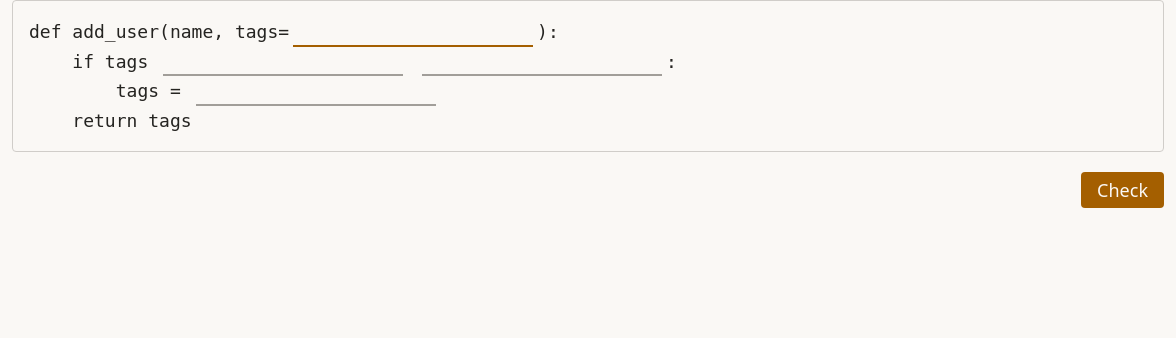
Scenario: FillInCard — post-submit › all-correct submission marks every blank correct, no remediation text
Type "None" into the field next to "def add_user(name, tags=" at [413, 33], box left=293, top=19, right=533, bottom=47
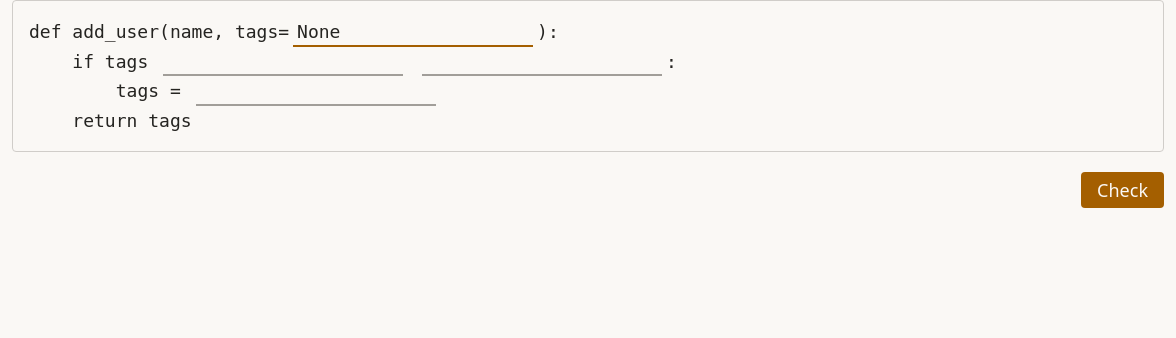
Type "is" into the field below "): if tags" at [283, 63], box left=163, top=49, right=403, bottom=76
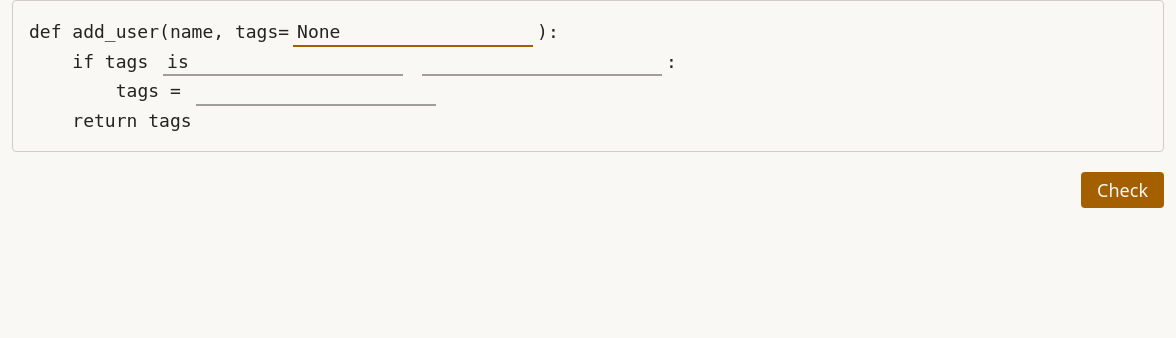
Type "None" into the 3rd field at [542, 63], box left=422, top=49, right=662, bottom=76
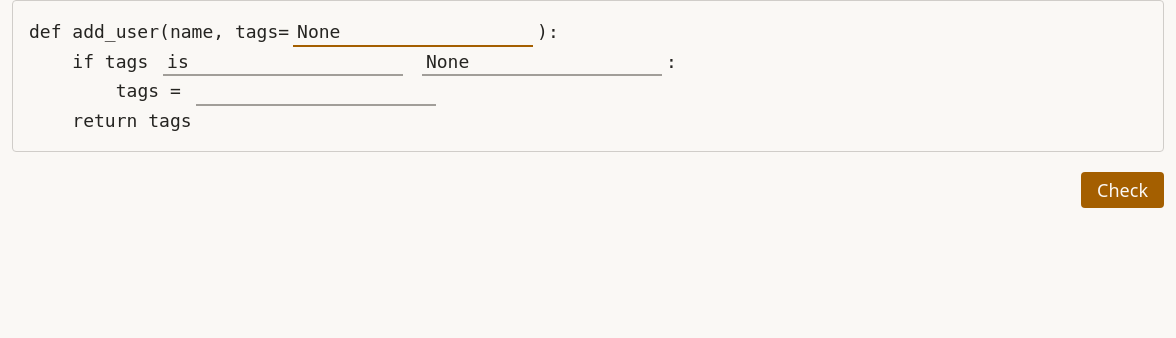
Type "[]" into the field below ": tags =" at [316, 92], box left=196, top=78, right=436, bottom=106
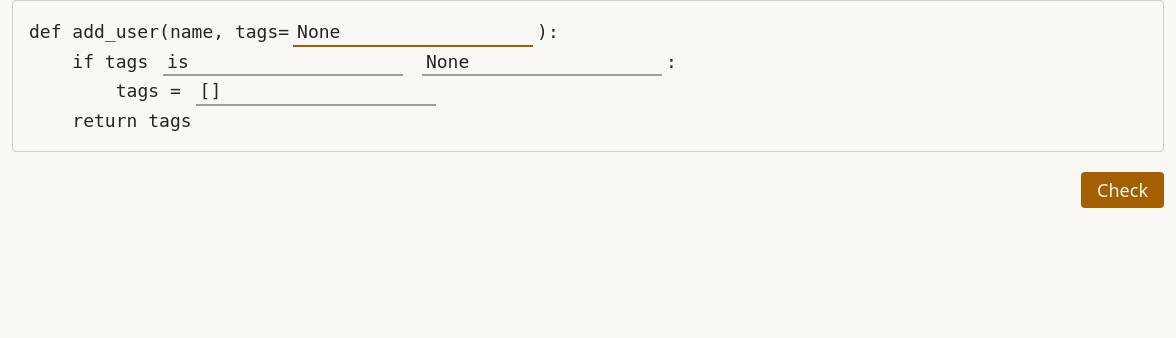
Click the button "Check" at [1123, 190], box left=1081, top=172, right=1164, bottom=208
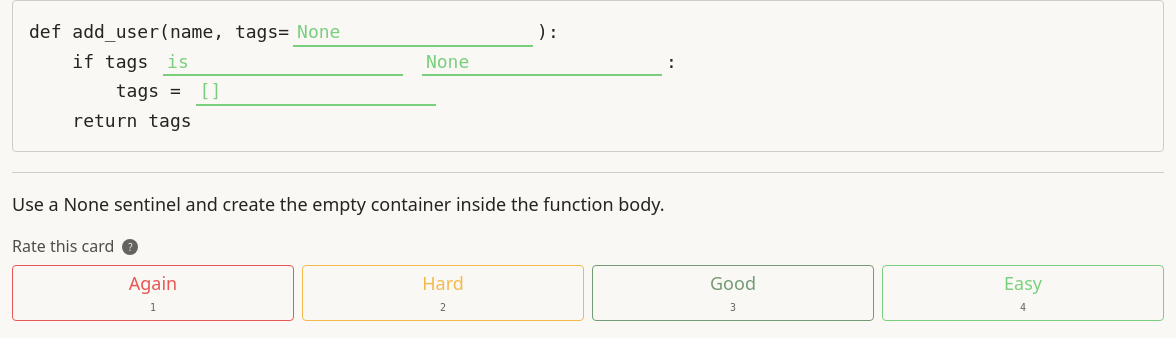
Expected: the field next to "def add_user(name, tags=" is disabled, left=293, top=19, right=533, bottom=47
Expected: the field below "): if tags" is disabled, left=163, top=49, right=403, bottom=76
Expected: the 3rd field is disabled, left=422, top=49, right=662, bottom=76
